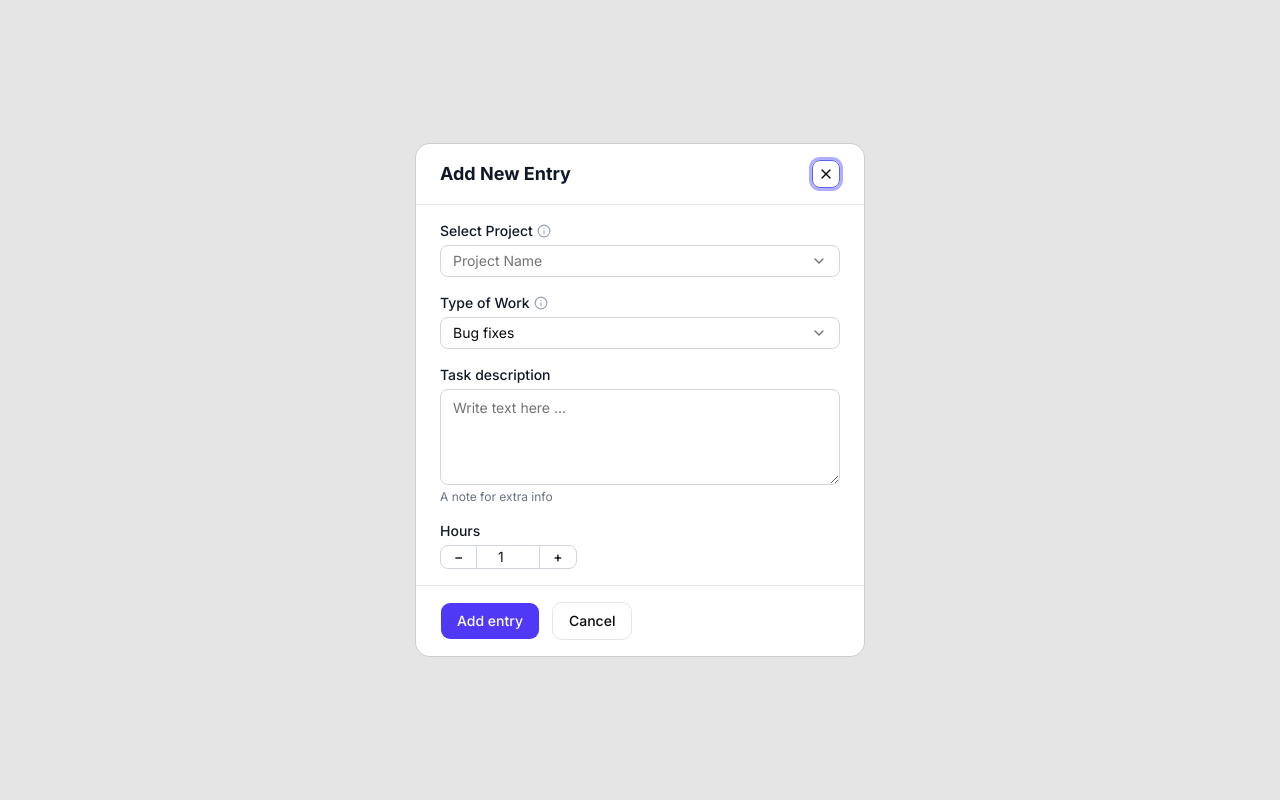
Scenario: EntryModal › adjusts hours with the +/- buttons within the 0.01-24 bounds
The image size is (1280, 800).
Expected: the button named "decrease hours" is enabled, top-left (441, 546), bottom-right (476, 568)
Click the button named "increase hours".
click(558, 557)  # box top-left (540, 546), bottom-right (576, 568)
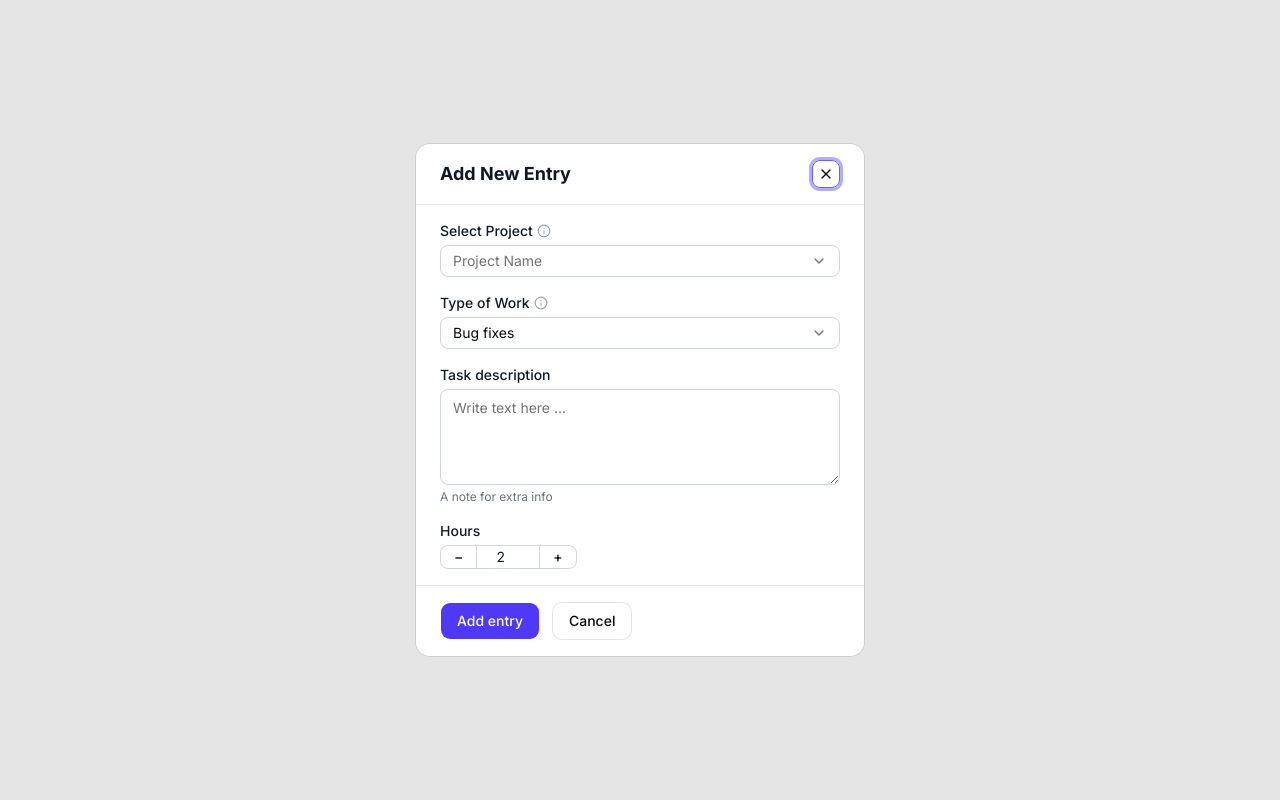
Result: the number field labelled "Hours" holds "2" at top-left (476, 546), bottom-right (540, 568)
Click the button named "decrease hours".
click(459, 557)  # box top-left (441, 546), bottom-right (476, 568)
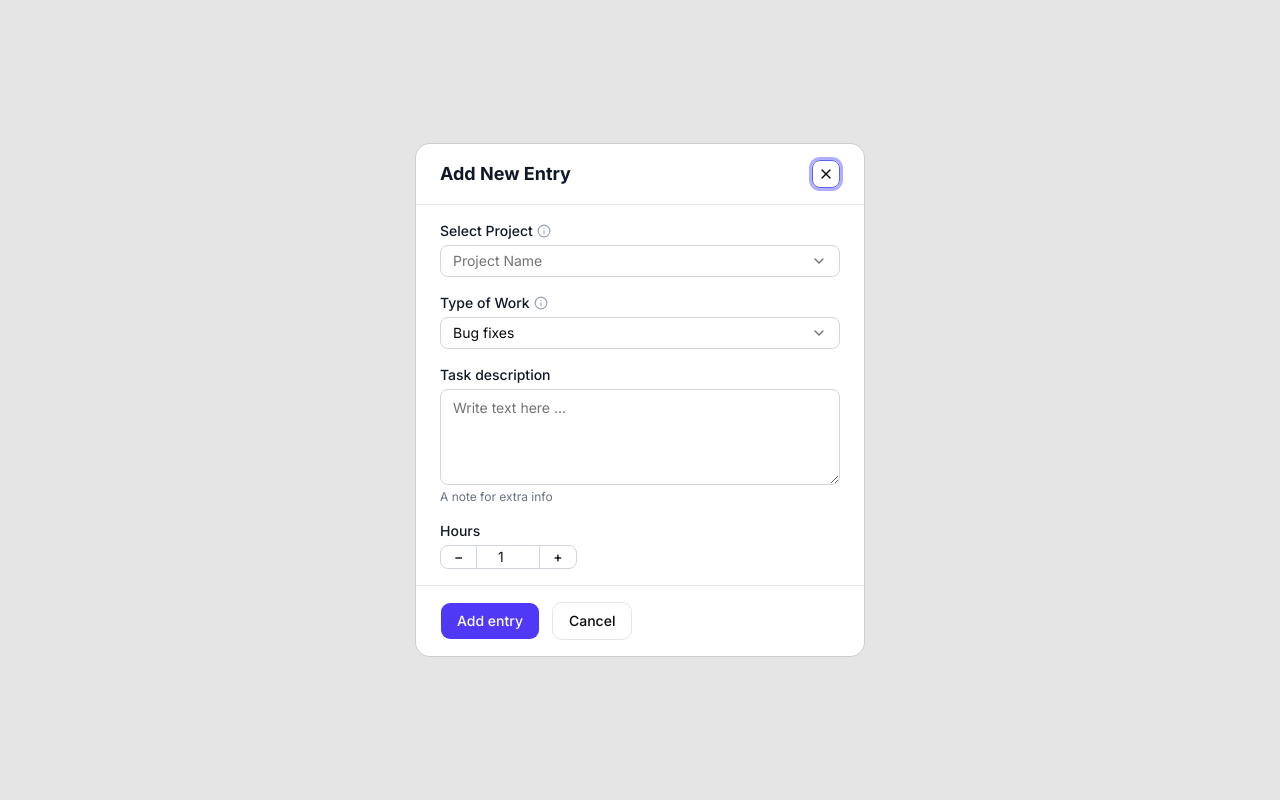
Click the button named "decrease hours".
click(459, 557)  # box top-left (441, 546), bottom-right (476, 568)
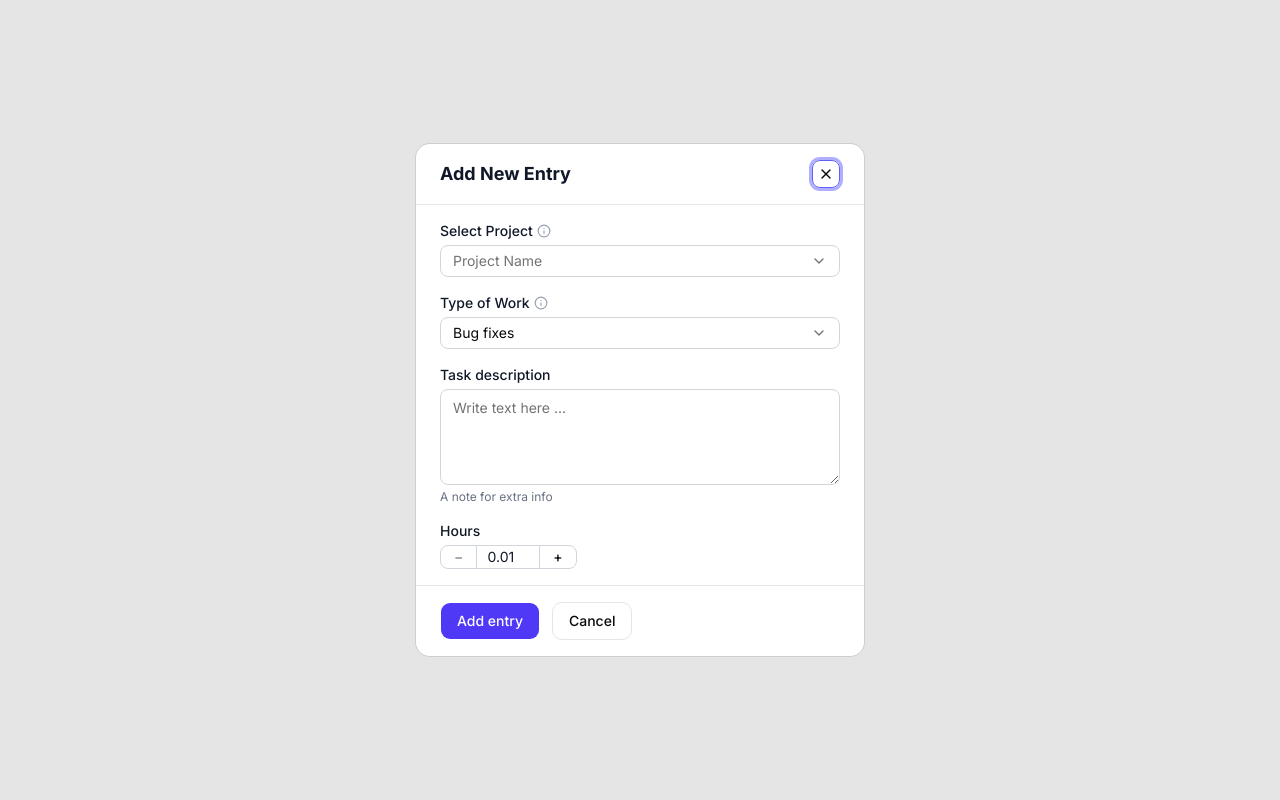
Result: the number field labelled "Hours" holds "0.01" at top-left (476, 546), bottom-right (540, 568)
Result: the button named "decrease hours" is disabled at top-left (441, 546), bottom-right (476, 568)
